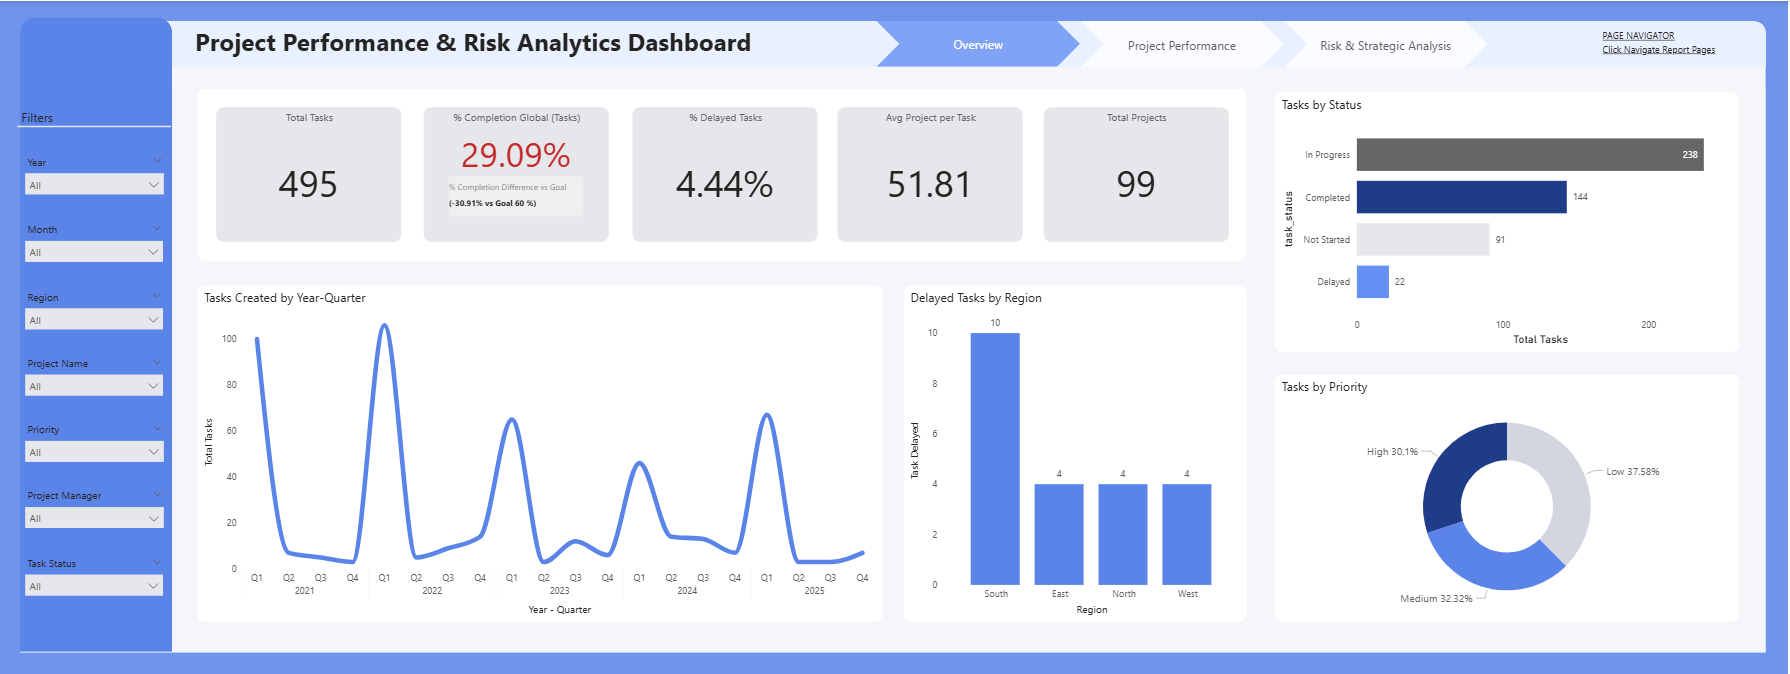

Layout of this report page (visuals, bound fields, positions):
{"tool":"powerbi","page":{"name":"Overview","canvas":[2350,885],"ordinal":0},"visuals":[{"type":"group","id":"g1","title":"Group 1","box":[27.1,26.7,2295,830],"z":0},{"type":"shape","box":[27.4,26.7,2294.4,830],"z":0,"group":"g1"},{"type":"textbox","box":[23.3,137,125,32.8],"z":0,"group":"g2"},{"type":"shape","box":[27.1,26.7,2295,60.9],"z":1000,"group":"g1"},{"type":"actionButton","title":"Overview","box":[1152,27,268,60],"z":1000},{"type":"shape","box":[23.3,158.7,201.7,14.4],"z":1000,"group":"g2"},{"type":"actionButton","title":"Overview","box":[1420,27,268,61],"z":2000},{"type":"textbox","box":[2101.8,31,195,51],"z":2000,"group":"g1"},{"type":"actionButton","title":"Overview","box":[1688,27,268,61],"z":3000},{"type":"textbox","box":[252,27,824,60],"z":4000},{"type":"shape","box":[26,22,200,834],"z":5000},{"type":"lineChart","title":"Tasks Created by Year-Quarter","fields":{"Y":["Measures_DAX.Total Tasks"],"Category":["dim_date.year","dim_date.Quarter_n"]},"box":[260,375,900,441.7],"z":6000},{"type":"columnChart","title":"Delayed Tasks by Region","fields":{"Category":["dim_project.region"],"Y":["Measures_DAX.Count task Delayed"]},"box":[1188.3,375,450,441.7],"z":7000},{"type":"barChart","title":"Tasks by Status","fields":{"Category":["dim_status.task_status"],"Y":["Measures_DAX.Total Tasks"]},"box":[1675,120,610,341.7],"z":8000},{"type":"donutChart","title":"Tasks by Priority","fields":{"Category":["dim_priority.priority"],"Y":["Measures_DAX.Total Tasks"]},"box":[1675,491.7,610,325],"z":9000},{"type":"shape","box":[260,115.6,1378.9,226.7],"z":10000,"group":"g4"},{"type":"group","id":"g2","title":"Group 3","box":[23.3,137,201.7,36.1],"z":11000},{"type":"group","id":"g3","title":"Group 4","box":[23.3,197.1,201.7,615],"z":12000},{"type":"slicer","fields":{"Values":["dim_date.year"]},"box":[23.3,197.1,201.7,90],"z":12000,"group":"g3"},{"type":"cardVisual","title":"% Completion Global (Tasks)","fields":{"Data":["Measures_DAX.% Completion Global"]},"box":[556.7,140,243.3,176.7],"z":13000,"group":"g4"},{"type":"slicer","fields":{"Values":["dim_date.month_name"]},"box":[23.9,286.5,201.1,88.3],"z":13000,"group":"g3"},{"type":"cardVisual","title":"Total Tasks","fields":{"Data":["Measures_DAX.Total Tasks"]},"box":[285,140,243.3,176.7],"z":14000,"group":"g4"},{"type":"slicer","fields":{"Values":["dim_project.project_name"]},"box":[23.9,461.5,201.1,87.8],"z":14000,"group":"g3"},{"type":"cardVisual","title":"% Delayed Tasks","fields":{"Data":["Measures_DAX.% Delayed Tasks"]},"box":[831.7,140,243.3,176.7],"z":15000,"group":"g4"},{"type":"slicer","fields":{"Values":["dim_priority.priority"]},"box":[23.3,548.8,201.7,87.2],"z":15000,"group":"g3"},{"type":"cardVisual","title":"Avg Project per Task","fields":{"Data":["Measures_DAX.Avg Progress"]},"box":[1101.7,140,243.3,176.7],"z":16000,"group":"g4"},{"type":"slicer","fields":{"Values":["dim_project.project_manager"]},"box":[23.3,636,201.7,88.9],"z":16000,"group":"g3"},{"type":"cardVisual","title":"Total Projects","fields":{"Data":["Measures_DAX.Total Projects"]},"box":[1371.7,140,243.3,176.7],"z":17000,"group":"g4"},{"type":"slicer","fields":{"Values":["dim_project.region"]},"box":[23.9,373.8,201.1,88.9],"z":17000,"group":"g3"},{"type":"group","id":"g4","title":"Group 2","box":[260,115.6,1378.9,226.7],"z":17001},{"type":"slicer","fields":{"Values":["dim_status.task_status"]},"box":[23.9,724.9,201.1,87.2],"z":18000,"group":"g3"}]}

Visuals, with their boxes in screenshot pixels (x1, y1, x2, y2), scaled from the page's 2350x885 canvas onto the 1790x674 screenshot:
"Group 1" group: locate(21, 20, 1769, 652)
shape: locate(21, 20, 1769, 652)
textbox: locate(18, 104, 113, 129)
shape: locate(21, 20, 1769, 67)
"Overview" actionButton: locate(877, 21, 1082, 66)
shape: locate(18, 121, 171, 132)
"Overview" actionButton: locate(1082, 21, 1286, 67)
textbox: locate(1601, 24, 1749, 62)
"Overview" actionButton: locate(1286, 21, 1490, 67)
textbox: locate(192, 21, 820, 66)
shape: locate(20, 17, 172, 652)
"Tasks Created by Year-Quarter" lineChart: locate(198, 286, 884, 622)
"Delayed Tasks by Region" columnChart: locate(905, 286, 1248, 622)
"Tasks by Status" barChart: locate(1276, 91, 1740, 352)
"Tasks by Priority" donutChart: locate(1276, 374, 1740, 622)
shape: locate(198, 88, 1248, 261)
"Group 3" group: locate(18, 104, 171, 132)
"Group 4" group: locate(18, 150, 171, 618)
slicer - dim_date.year: locate(18, 150, 171, 219)
"% Completion Global (Tasks)" cardVisual: locate(424, 107, 609, 241)
slicer - dim_date.month_name: locate(18, 218, 171, 285)
"Total Tasks" cardVisual: locate(217, 107, 402, 241)
slicer - dim_project.project_name: locate(18, 351, 171, 418)
"% Delayed Tasks" cardVisual: locate(634, 107, 819, 241)
slicer - dim_priority.priority: locate(18, 418, 171, 484)
"Avg Project per Task" cardVisual: locate(839, 107, 1024, 241)
slicer - dim_project.project_manager: locate(18, 484, 171, 552)
"Total Projects" cardVisual: locate(1045, 107, 1230, 241)
slicer - dim_project.region: locate(18, 285, 171, 352)
"Group 2" group: locate(198, 88, 1248, 261)
slicer - dim_status.task_status: locate(18, 552, 171, 618)
